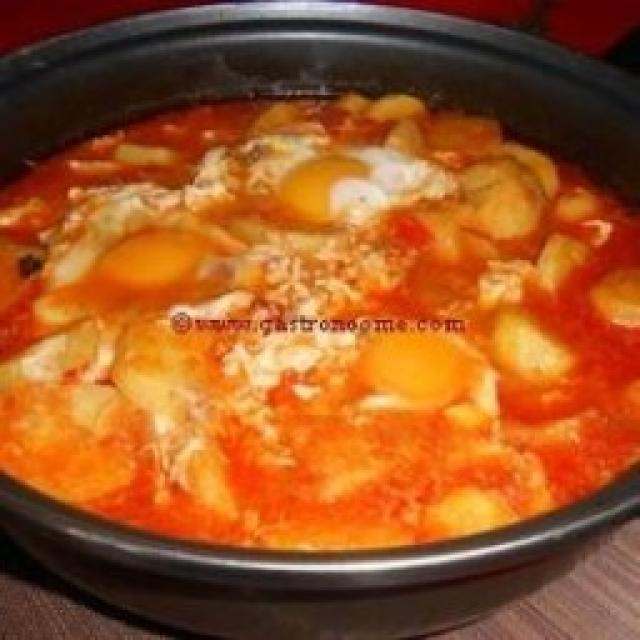Chakchouka: (0, 94, 640, 549)
